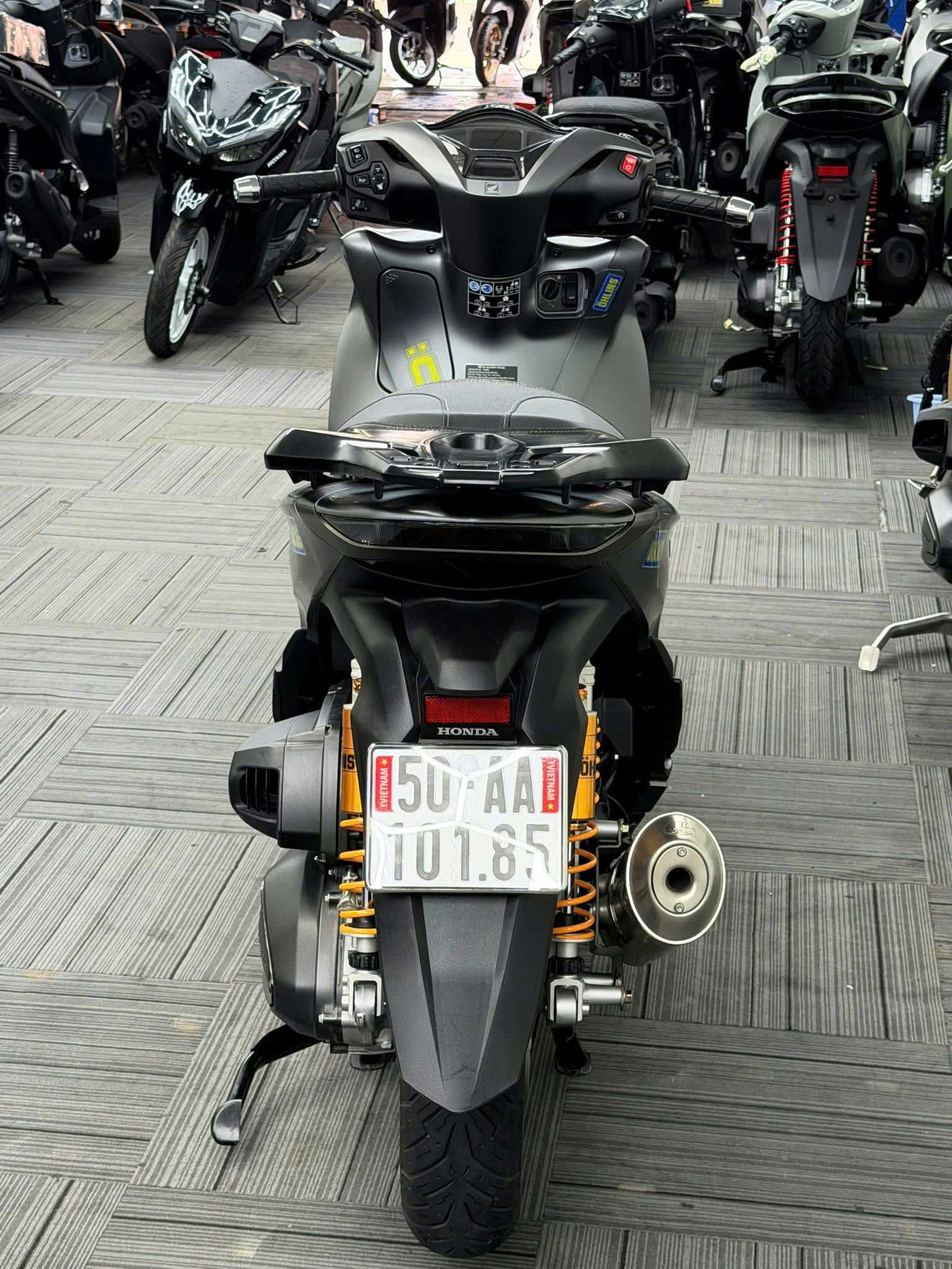Bien-so: (368, 742, 576, 892)
